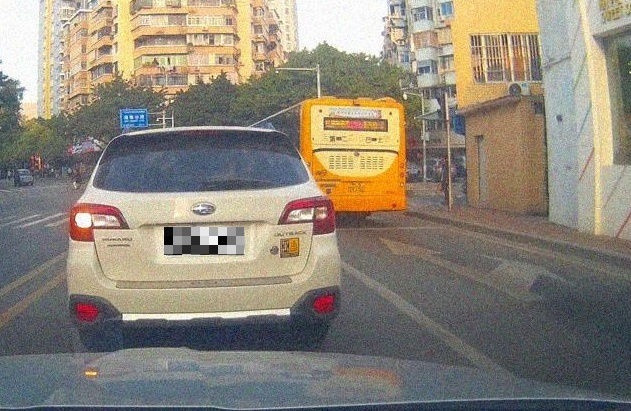L_light: (68, 203, 130, 242)
R_light: (277, 195, 336, 235)
T_light: (184, 129, 220, 134)
day-left: (67, 125, 341, 344)
plate_1: (164, 227, 244, 255)
